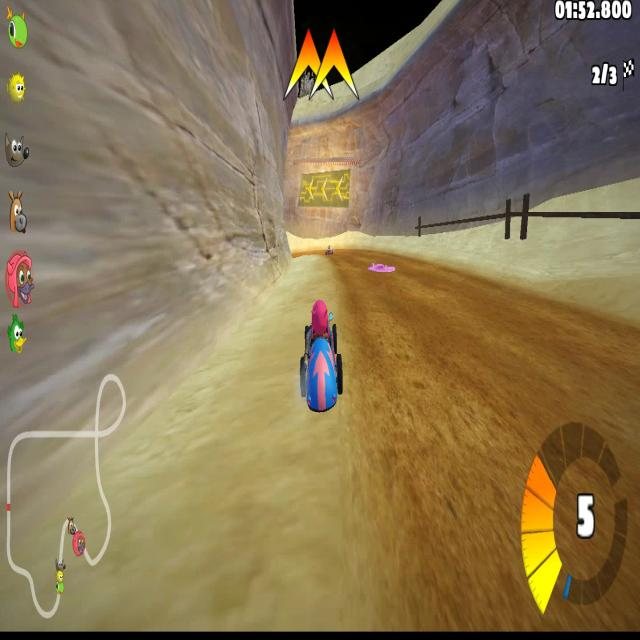player_kart: (296, 302, 344, 413)
track: (348, 285, 511, 633), (511, 364, 640, 629), (512, 292, 638, 364), (397, 254, 486, 282), (332, 254, 360, 287), (342, 245, 366, 258), (298, 250, 324, 256)
